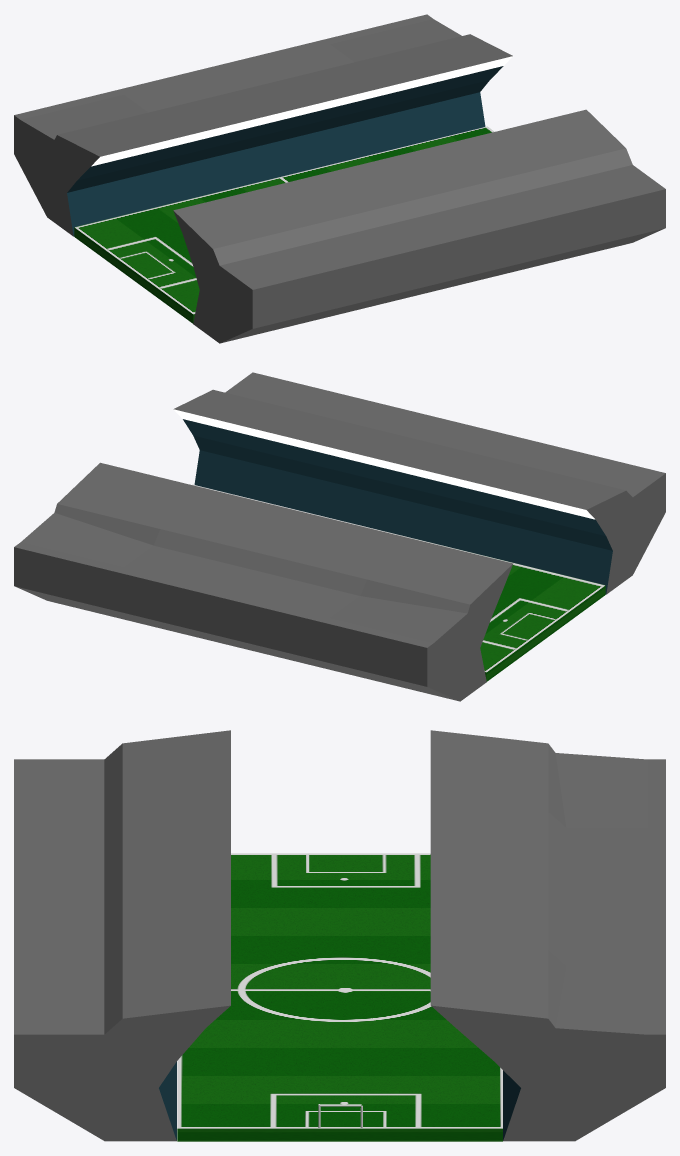
File: pitch.fbx
3 views of the same model, one above another, from view 1: azimuth 30°, elevation 25°; view 2: azimuth 150°, elevation 25°; view 3: azimuth 270°, elevation 25° (orthographic). The views are drawn at different scales.
Visible parts, largest first — view 1: stands, pitch; view 2: stands, pitch; view 3: stands, pitch.
Boxes of the visible parts, bbox=[...] form: stands: bbox=[14, 14, 665, 343]; pitch: bbox=[74, 126, 494, 323]; stands: bbox=[14, 372, 665, 701]; pitch: bbox=[192, 484, 605, 681]; stands: bbox=[14, 730, 665, 1141]; pitch: bbox=[177, 853, 502, 1141].
Bounding box in the file's own units: 18021 × 4141 × 18015.
